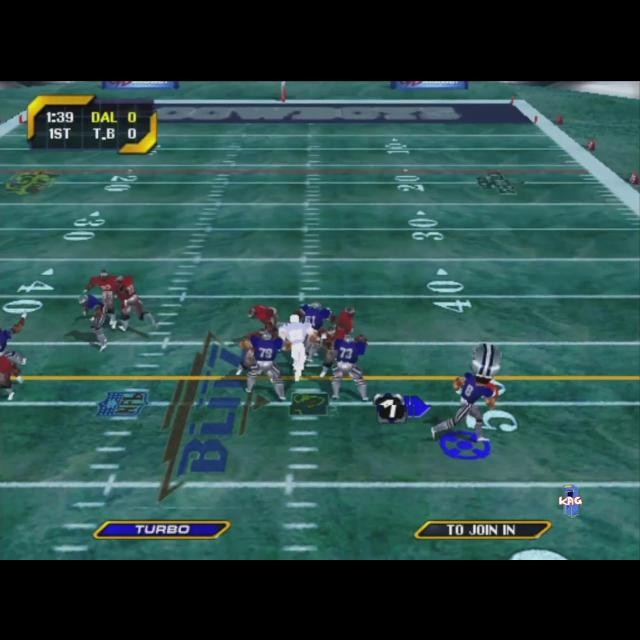player: (431, 343, 502, 439), (240, 332, 292, 401), (236, 304, 278, 376), (328, 332, 369, 400), (111, 275, 160, 331), (318, 308, 356, 377), (278, 314, 316, 382), (296, 301, 336, 361), (86, 270, 120, 328), (78, 294, 108, 352), (0, 311, 28, 365), (0, 354, 24, 400)
